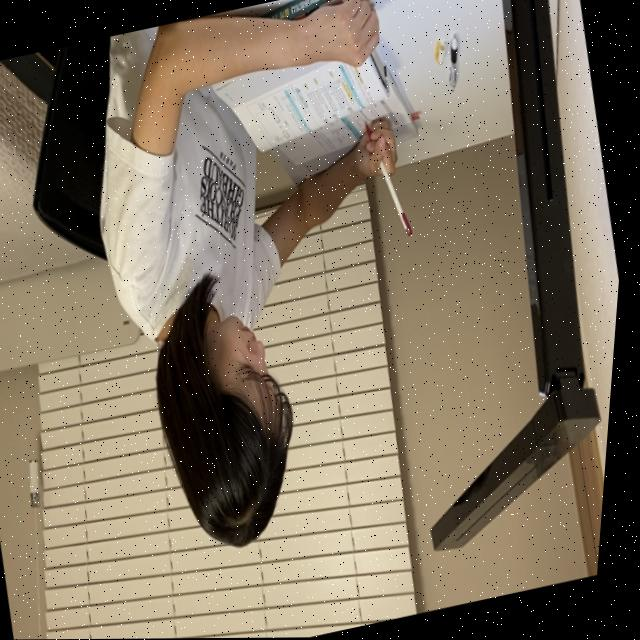studying-person: (37, 0, 521, 596)
